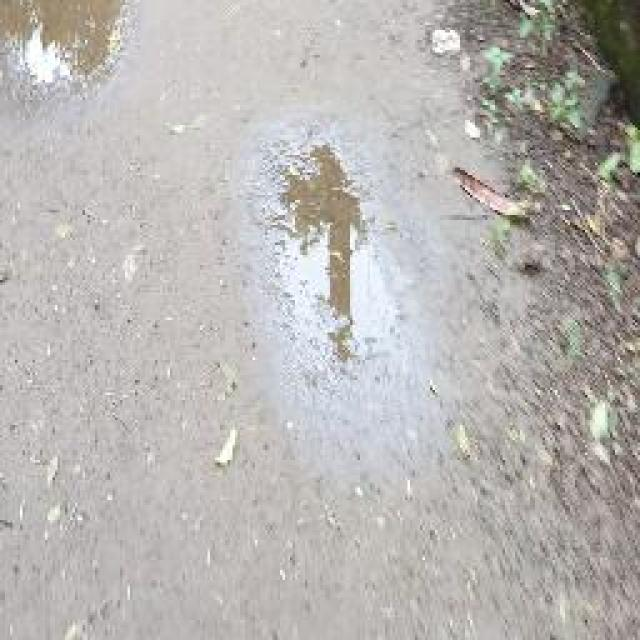puddle: (259, 143, 407, 378)
